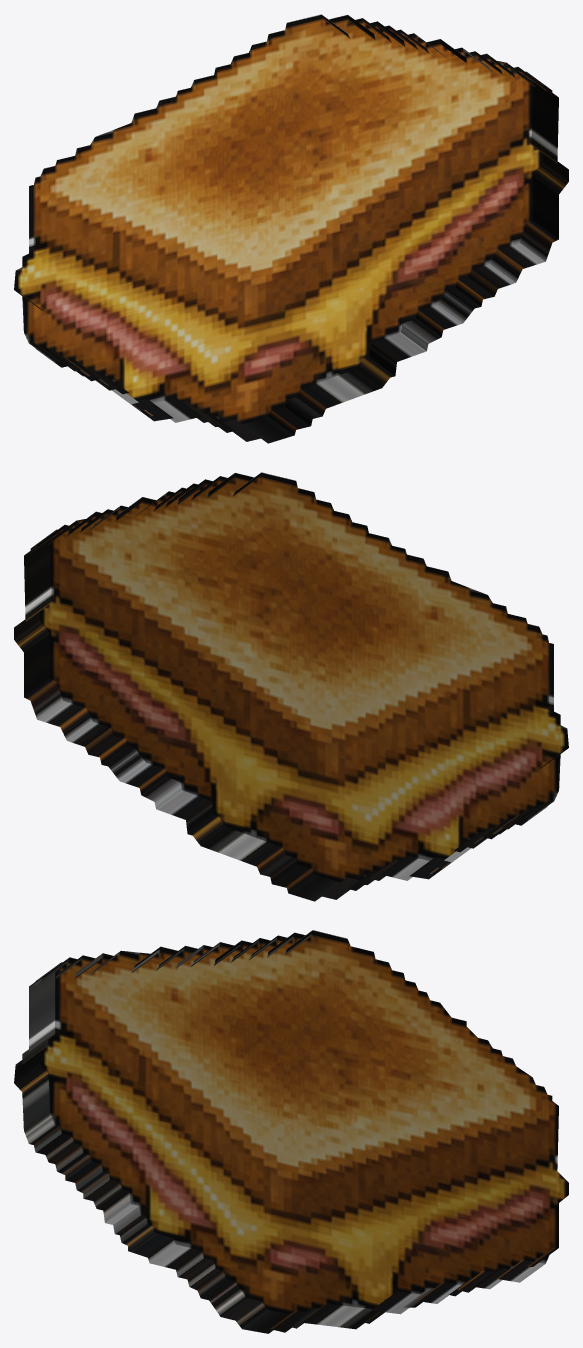
Rendered from sandwich.glb.
3 views of the same model, one above another, from view 1: azimuth 30°, elevation 25°; view 2: azimuth 150°, elevation 25°; view 3: azimuth 330°, elevation 25° (orthographic).
Parts seen in each view (by area): view 1: world; view 2: world; view 3: world.
Boxes of the visible parts, x1,y1,x2,y2 form: world: (14, 14, 568, 443); world: (14, 472, 568, 901); world: (14, 930, 568, 1333).
Bounding box in the file's own units: 3.2 × 2.26 × 0.2724.
1 material, 1 textured.
